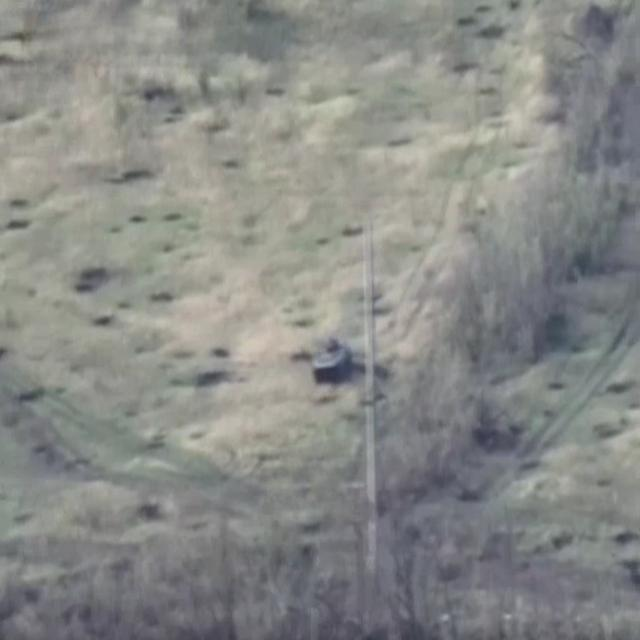AIFV: (310, 333, 356, 390)
